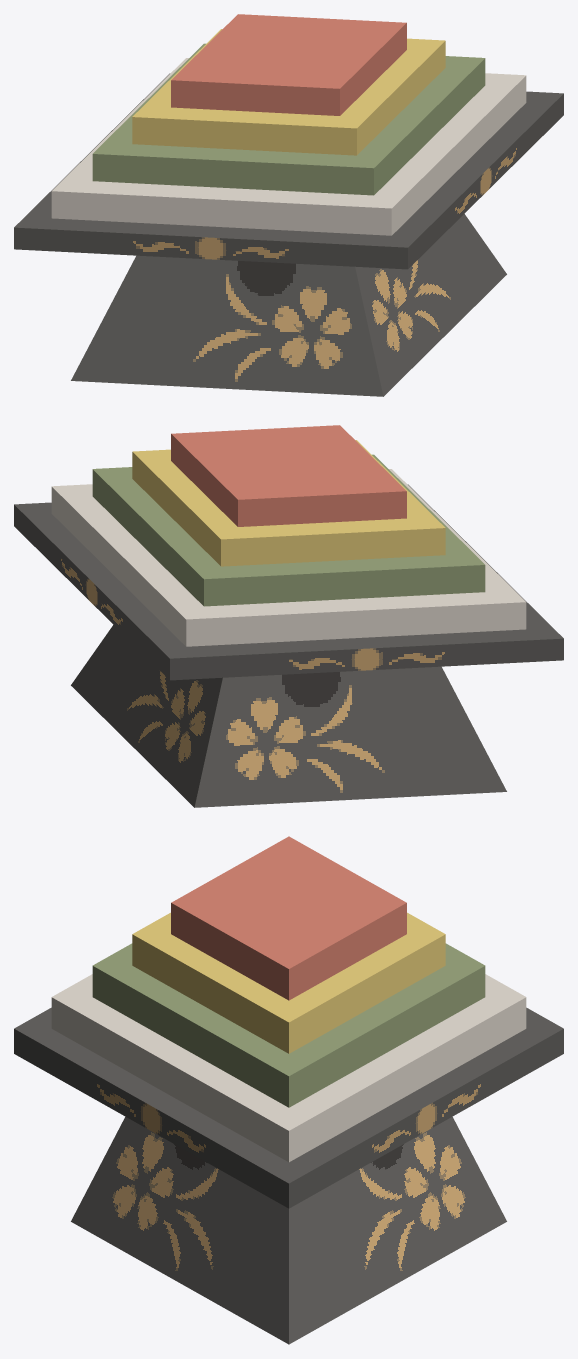
Rendered from 02a1_Hishi-Mochi.glb.
3 renders of one model, top to bottom at view 1: azimuth 30°, elevation 25°; view 2: azimuth 150°, elevation 25°; view 3: azimuth 270°, elevation 25°, orthographic. The views are drawn at different scales.
Visible parts, largest first — view 1: part_0; view 2: part_0; view 3: part_0.
Part boxes in pixels (x1,y1,x2,y2): part_0: (14,14,563,396); part_0: (14,425,563,807); part_0: (14,836,563,1344).
Bounding box in the file's own units: 0.2784 × 0.1336 × 0.2088.
Materials: 1 (1 with a texture image).
